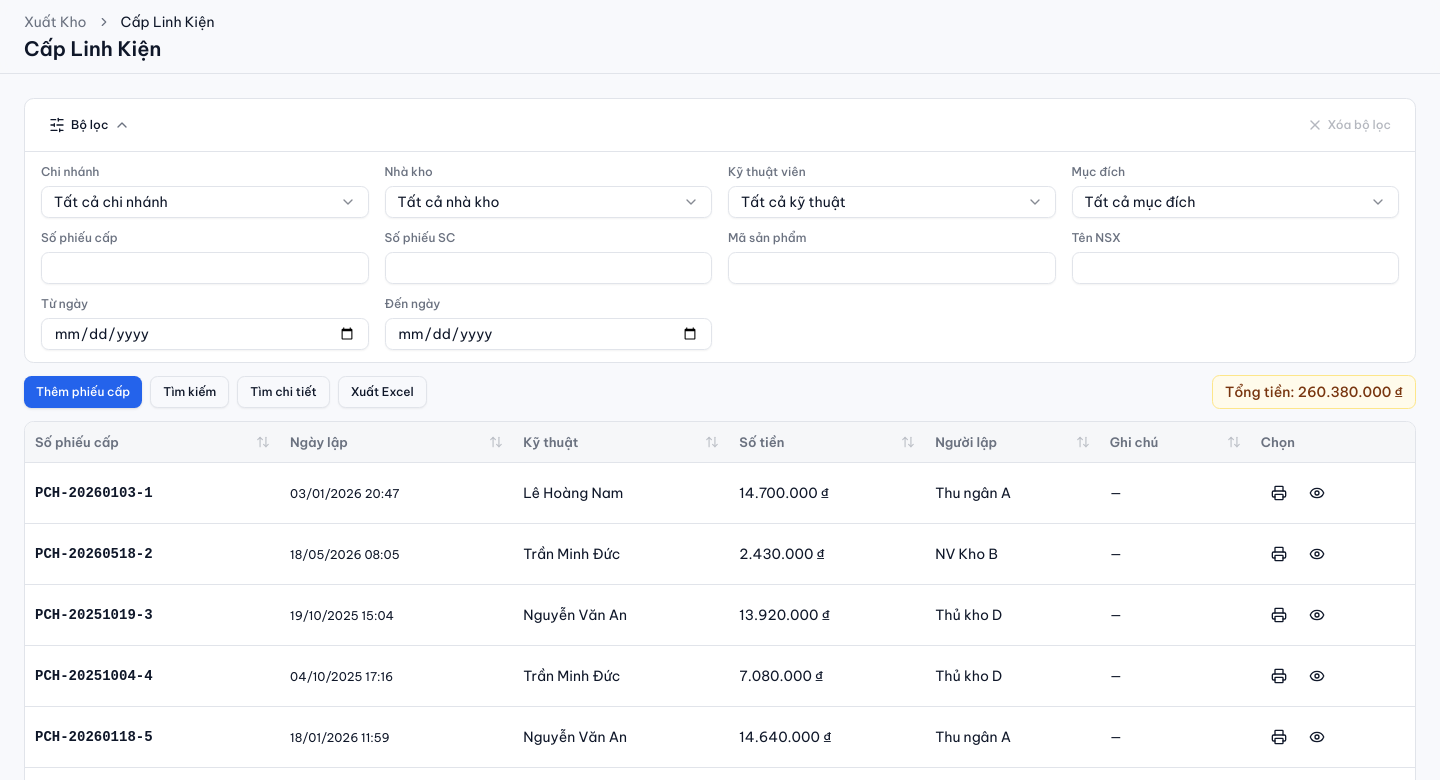
Test case: CapLinhKienPage › opens line-level detail results
The image size is (1440, 780).
What coordinates should you click on to do the following:
click the button "Tìm chi tiết"
I would click on:
 (284, 392)
Its box is x1=237 y1=376 x2=330 y2=408.
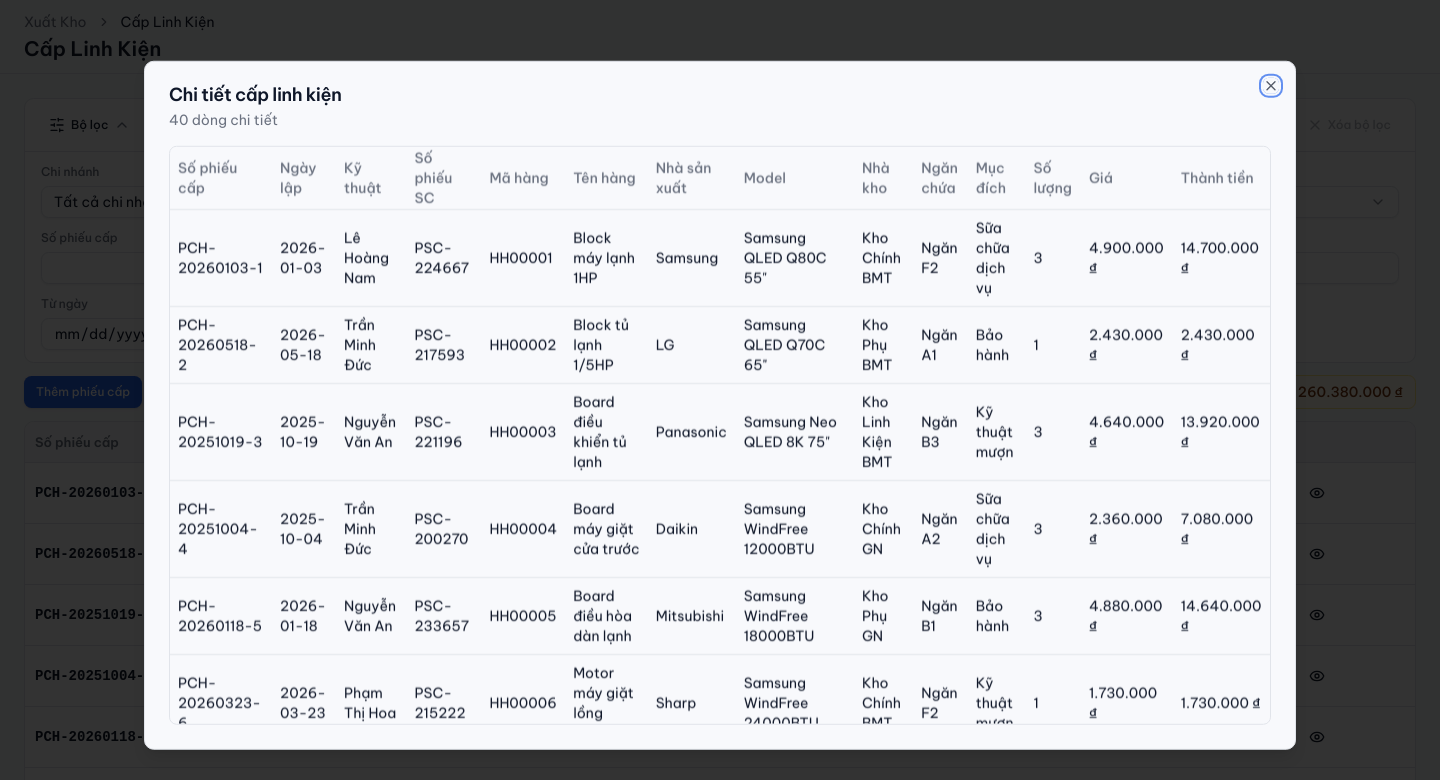
Now the heading "Chi tiết cấp linh kiện" is shown, box x1=169 y1=83 x2=341 y2=106
Now the column heading "Mục đích" is shown, box x1=968 y1=147 x2=1025 y2=209
